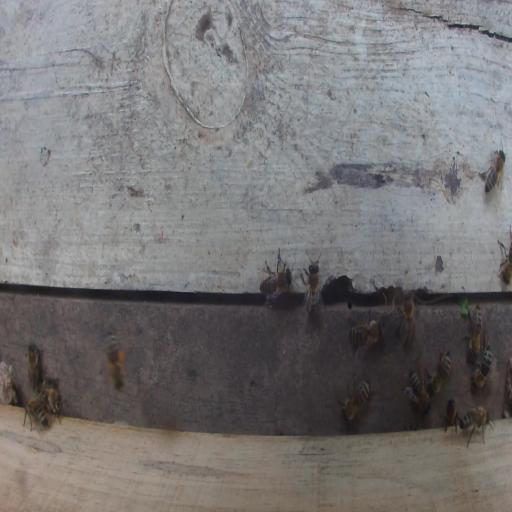bee: (252, 246, 300, 313), (336, 372, 375, 423), (478, 134, 509, 195), (298, 252, 326, 318), (459, 401, 496, 448), (466, 332, 493, 395), (403, 359, 432, 413), (349, 317, 384, 361), (395, 288, 418, 352), (103, 328, 126, 392), (424, 349, 452, 396), (462, 302, 483, 361), (22, 396, 52, 434), (36, 384, 62, 423), (497, 223, 512, 286), (440, 396, 459, 432), (27, 342, 39, 394)
